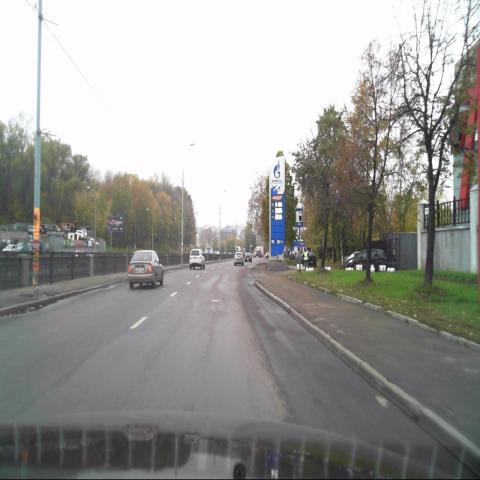7_3: (295, 209, 302, 228)
